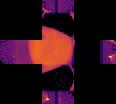earth: (28, 25, 74, 74)
